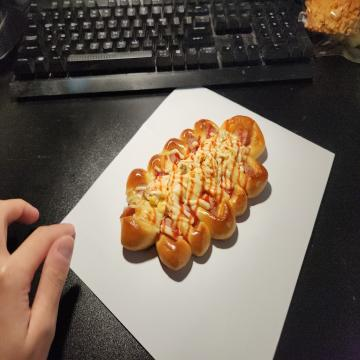pizza_bread: (121, 113, 267, 273)
